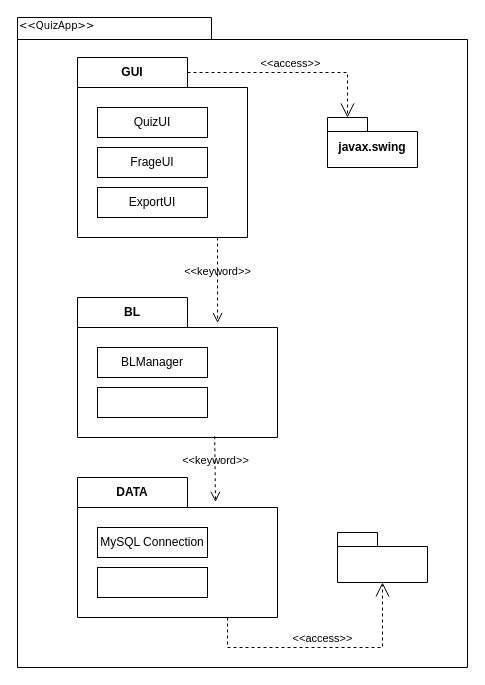
Image size: 485x685. Some labels were removed from this diagram. The centre of each missing label's shape, as x and y in pixels:
"DAOs" goes at (152,582).
"DTOs" goes at (152,402).
"java.sql" goes at (382,557).
